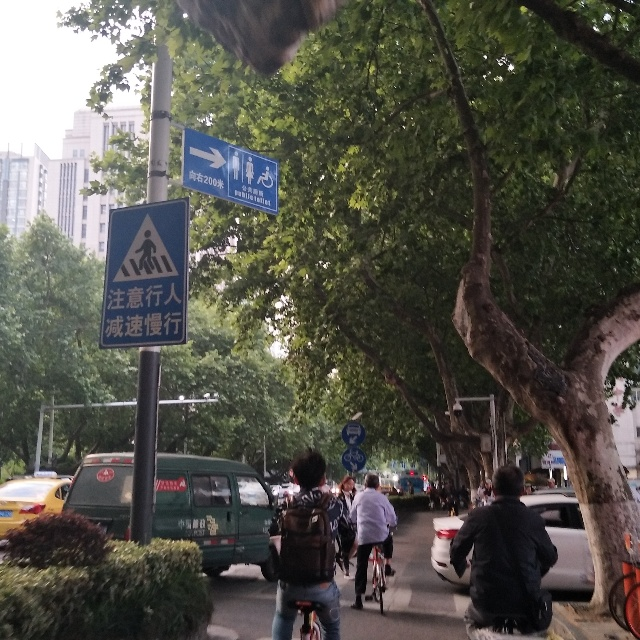crosswalk: (121, 208, 181, 286)
